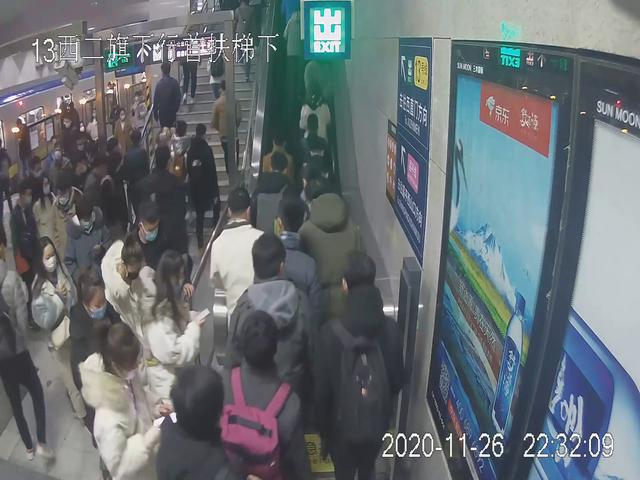person: (320, 249, 413, 480), (27, 241, 104, 455), (226, 308, 314, 480), (68, 267, 139, 480), (133, 250, 208, 443), (80, 325, 167, 477), (203, 188, 276, 348), (152, 61, 185, 136)
